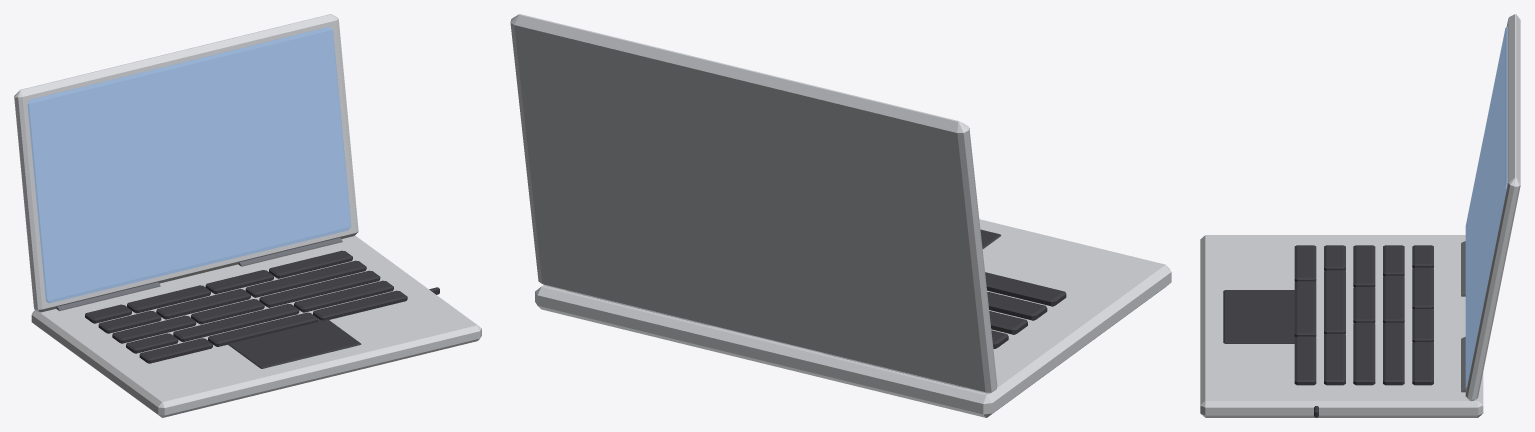
The model's file is laptop.glb.
The picture shows the model from 3 angles, left to right: view 1: azimuth 30°, elevation 25°; view 2: azimuth 150°, elevation 25°; view 3: azimuth 270°, elevation 25°; orthographic projection. The views are drawn at different scales.
Parts seen in each view (by area): view 1: laptop-convertible-flip; view 2: laptop-convertible-flip; view 3: laptop-convertible-flip.
Part boxes in pixels (x1,y1,x2,y2): laptop-convertible-flip: (14, 14, 481, 417); laptop-convertible-flip: (510, 14, 1171, 417); laptop-convertible-flip: (1200, 14, 1520, 417).
Size of the model in its own units: 0.329 by 0.2129 by 0.2548.
